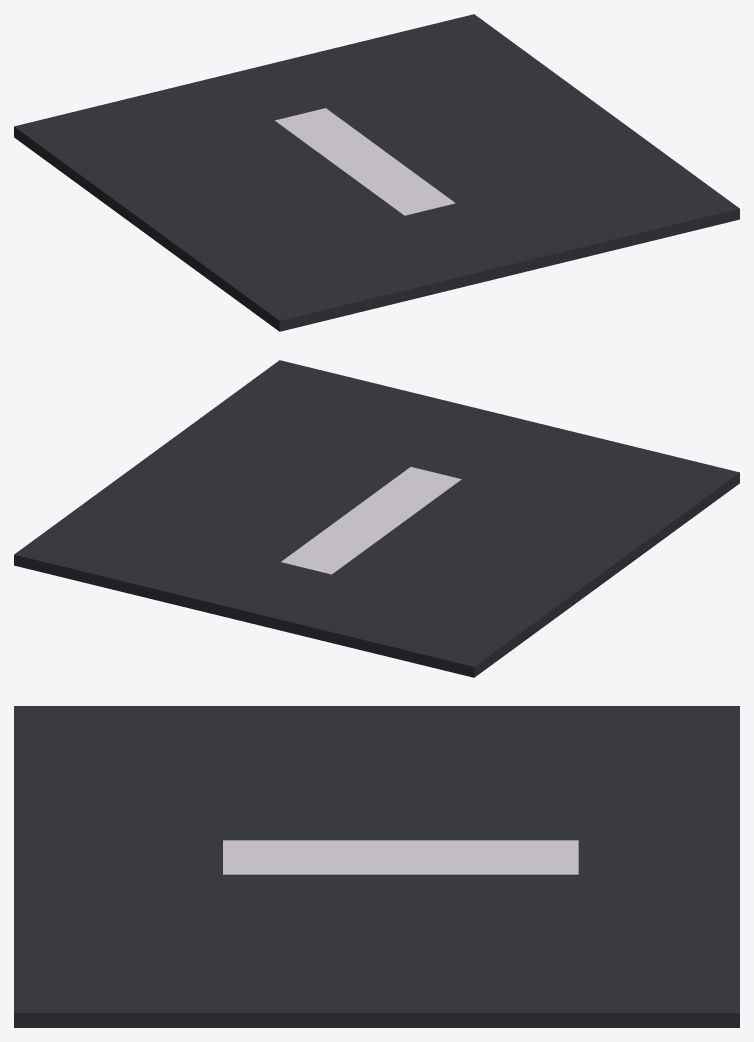
File: ROADmain.fbx
3 renders of one model, top to bottom at view 1: azimuth 30°, elevation 25°; view 2: azimuth 150°, elevation 25°; view 3: azimuth 270°, elevation 25°, orthographic. The views are drawn at different scales.
Parts seen in each view (by area): view 1: Plane; view 2: Plane; view 3: Plane.
Part boxes in pixels (x1,y1,x2,y2): Plane: (14,14,739,331); Plane: (14,360,739,677); Plane: (14,706,739,1027).
Size of the model in its own units: 396 by 8.98 by 396.
1 material, 1 textured.
